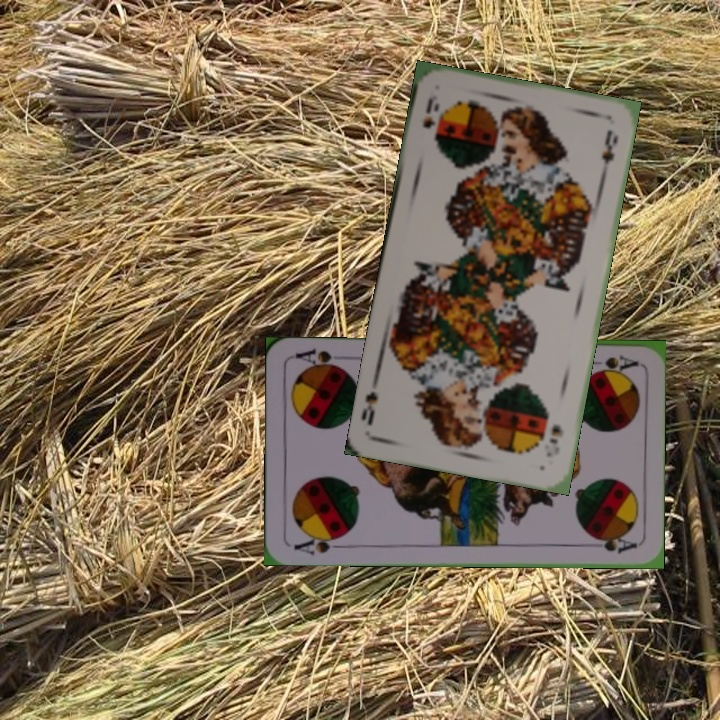SA: (290, 530, 348, 557), (590, 351, 639, 374)
SO: (419, 92, 442, 144), (542, 419, 566, 460)
